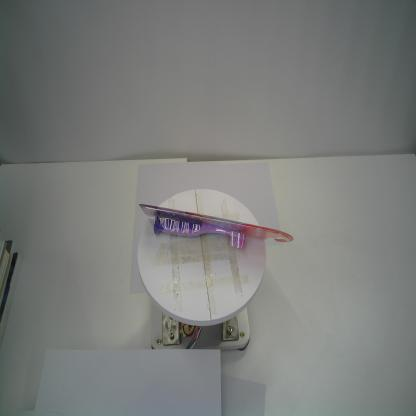Personal Hygiene: (138, 203, 294, 252)
